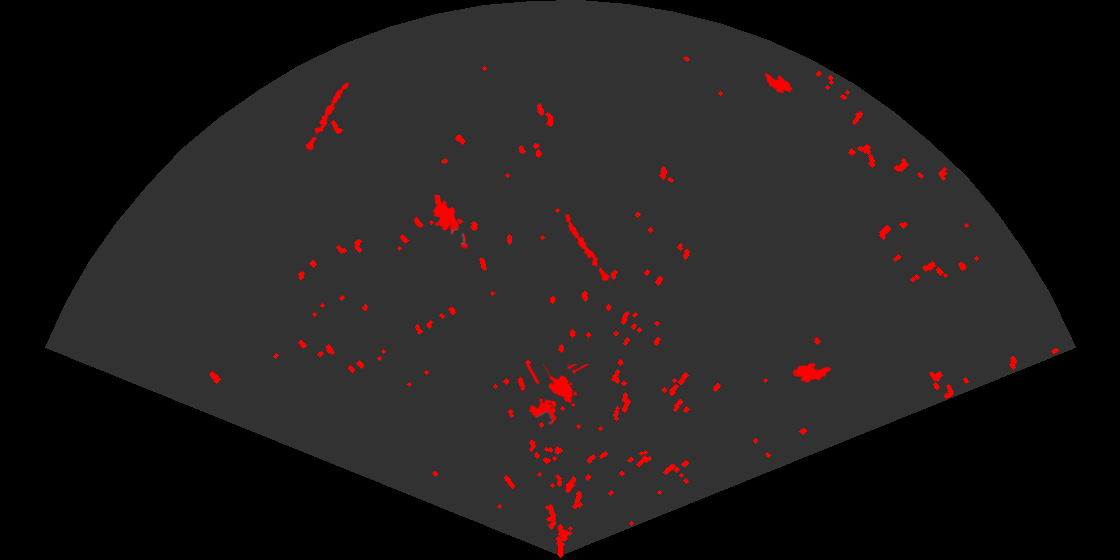AUV: (791, 361, 833, 385), (763, 71, 794, 95)
cage: (524, 364, 591, 426)
chain: (564, 212, 616, 290), (303, 81, 351, 154)
frogman: (431, 195, 469, 251)
